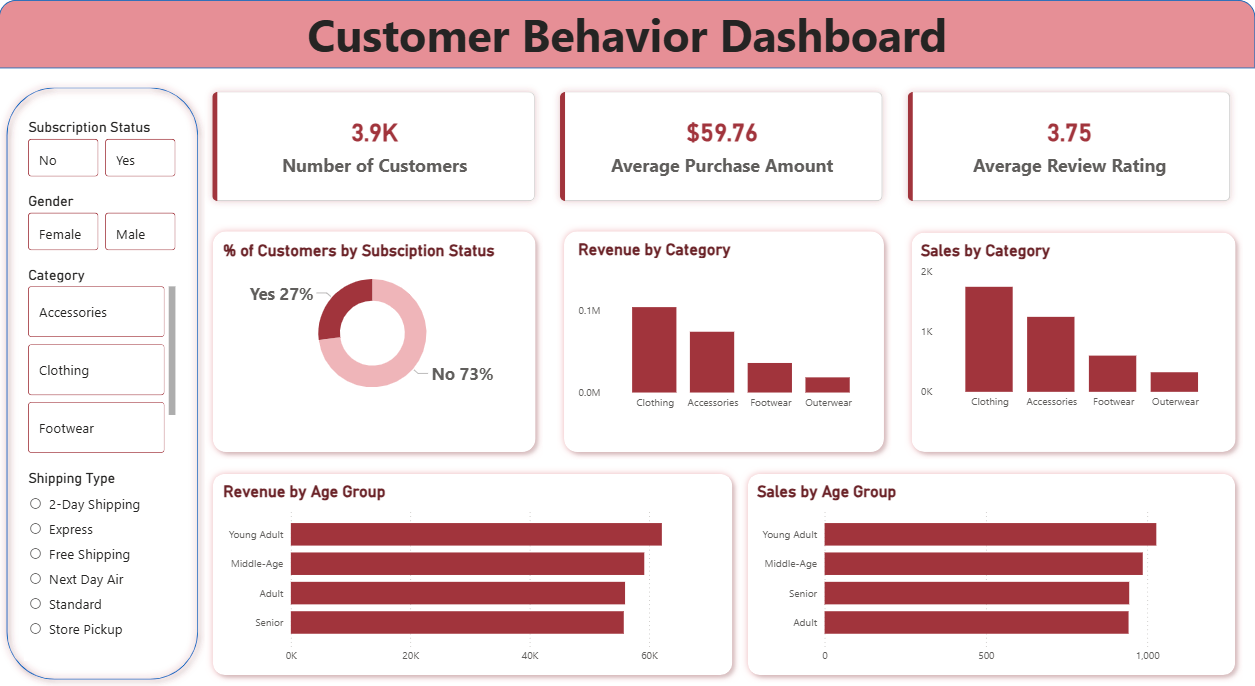

The page's visual inventory and layout, read from the dashboard file:
{"tool":"powerbi","page":{"name":"Page 1","canvas":[1500,820],"ordinal":0},"visuals":[{"type":"cardVisual","fields":{"Data":["customer_behavior customer.Number of Customers","customer_behavior customer.Average Purchase Amount","customer_behavior customer.Average Review Rating"]},"box":[226.7,81.7,1273.3,186.7],"z":0},{"type":"shape","box":[0,0,1500,81.7],"z":1000},{"type":"textbox","box":[0,0,1500,81.7],"z":2000},{"type":"shape","box":[246.7,266.7,403.3,281.7],"z":3000},{"type":"donutChart","title":"% of Customers by Subsciption Status","fields":{"Category":["customer_behavior customer.subscription_status"],"Y":["CountNonNull(customer_behavior customer.customer_id)"]},"box":[262.9,288,366.7,198.3],"z":4000},{"type":"shape","box":[665,266.7,400,281.7],"z":5000},{"type":"shape","box":[1080,268.3,405,280],"z":6000},{"type":"clusteredColumnChart","title":"Revenue by Category","fields":{"Y":["Sum(customer_behavior customer.purchase_amount)"],"Category":["customer_behavior customer.category"]},"box":[686.7,286.7,364.3,212.3],"z":7000},{"type":"clusteredColumnChart","title":"Sales by Category","fields":{"Category":["customer_behavior customer.category"],"Y":["CountNonNull(customer_behavior customer.customer_id)"]},"box":[1095,288.3,373.3,210],"z":8000},{"type":"shape","box":[0,95,246.7,725],"z":9000},{"type":"advancedSlicerVisual","title":"Subscription Status","fields":{"Values":["customer_behavior customer.subscription_status"]},"box":[30,141.7,186.7,75],"z":10000},{"type":"advancedSlicerVisual","title":"Gender","fields":{"Values":["customer_behavior customer.gender"]},"box":[30,230,186.7,75],"z":11000},{"type":"advancedSlicerVisual","title":"Category","fields":{"Values":["customer_behavior customer.category"]},"box":[30,318.3,186.7,230],"z":12000},{"type":"listSlicer","title":"Shipping Type","fields":{"Values":["customer_behavior customer.shipping_type"]},"box":[30,561.7,171.7,228.3],"z":13000},{"type":"shape","box":[246.7,556.7,638.3,258.3],"z":14000},{"type":"clusteredBarChart","title":"Revenue by Age Group","fields":{"Y":["Sum(customer_behavior customer.purchase_amount)"],"Category":["customer_behavior customer.age_group"]},"box":[263.3,576.7,600,225],"z":15000},{"type":"shape","box":[885,556.7,600,258.3],"z":15001},{"type":"clusteredBarChart","title":"Sales by Age Group","fields":{"Y":["CountNonNull(customer_behavior customer.customer_id)"],"Category":["customer_behavior customer.age_group"]},"box":[900,576.7,568.3,225],"z":15002}]}

Visuals, with their boxes in screenshot pixels (x1, y1, x2, y2), scaled from the page's 1500x820 canvas onto the 1255x686 screenshot:
cardVisual - customer_behavior customer.Number of Customers x customer_behavior customer.Average Purchase Amount: pyautogui.locateOnScreen(190, 68, 1254, 225)
shape: pyautogui.locateOnScreen(0, 0, 1254, 68)
textbox: pyautogui.locateOnScreen(0, 0, 1254, 68)
shape: pyautogui.locateOnScreen(206, 223, 544, 459)
"% of Customers by Subsciption Status" donutChart: pyautogui.locateOnScreen(220, 241, 527, 407)
shape: pyautogui.locateOnScreen(556, 223, 891, 459)
shape: pyautogui.locateOnScreen(904, 224, 1242, 459)
"Revenue by Category" clusteredColumnChart: pyautogui.locateOnScreen(575, 240, 879, 417)
"Sales by Category" clusteredColumnChart: pyautogui.locateOnScreen(916, 241, 1228, 417)
shape: pyautogui.locateOnScreen(0, 79, 206, 685)
"Subscription Status" advancedSlicerVisual: pyautogui.locateOnScreen(25, 119, 181, 181)
"Gender" advancedSlicerVisual: pyautogui.locateOnScreen(25, 192, 181, 255)
"Category" advancedSlicerVisual: pyautogui.locateOnScreen(25, 266, 181, 459)
"Shipping Type" listSlicer: pyautogui.locateOnScreen(25, 470, 169, 661)
shape: pyautogui.locateOnScreen(206, 466, 740, 682)
"Revenue by Age Group" clusteredBarChart: pyautogui.locateOnScreen(220, 482, 722, 671)
shape: pyautogui.locateOnScreen(740, 466, 1242, 682)
"Sales by Age Group" clusteredBarChart: pyautogui.locateOnScreen(753, 482, 1228, 671)
